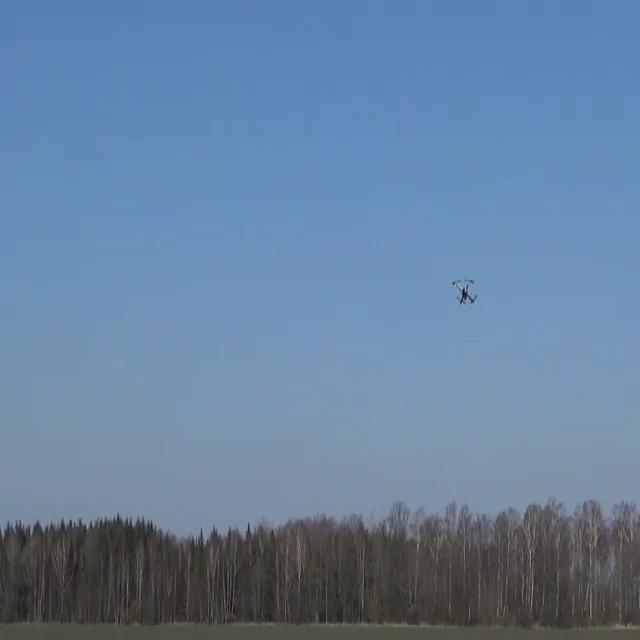drone: (451, 277, 477, 305)
